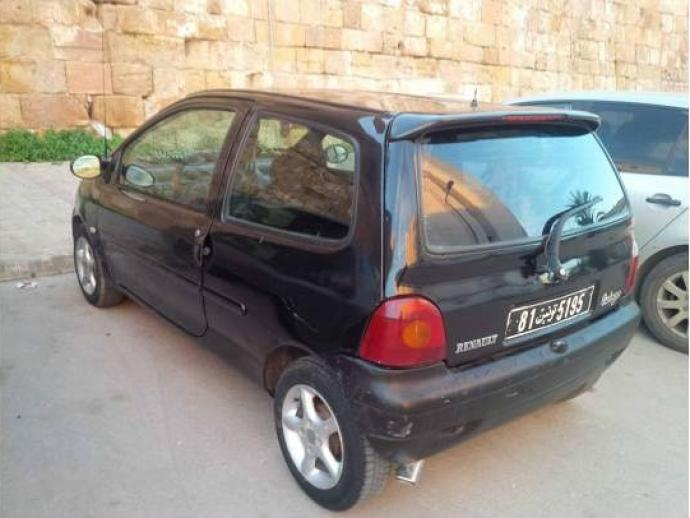LP: (500, 282, 609, 342)
